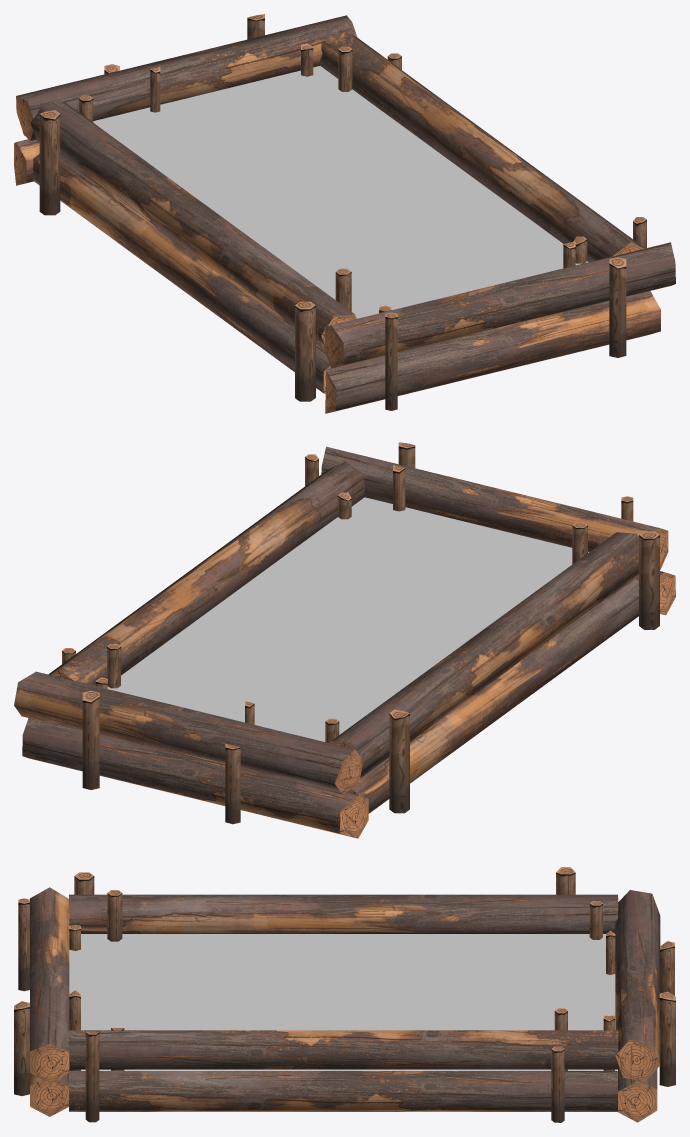
The model's file is raisedBed02.fbx.
3 views of the same model, one above another, from view 1: azimuth 30°, elevation 25°; view 2: azimuth 150°, elevation 25°; view 3: azimuth 270°, elevation 25° (orthographic). The views are drawn at different scales.
Parts seen in each view (by area): view 1: raisedBed02; view 2: raisedBed02; view 3: raisedBed02.
Boxes of the visible parts, box(x1,y1,x2,y2) form: raisedBed02: box(14, 14, 675, 413); raisedBed02: box(14, 442, 675, 838); raisedBed02: box(14, 867, 675, 1122).
Bounding box in the file's own units: 212 × 59.27 × 361.
